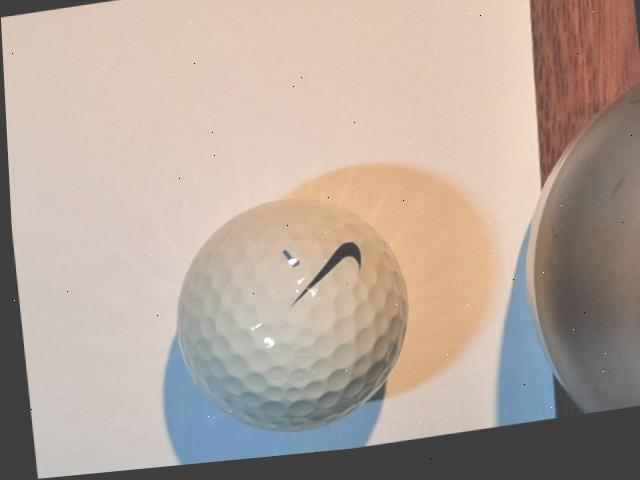Ball: (160, 188, 415, 451)
Nike: (281, 245, 361, 312)
